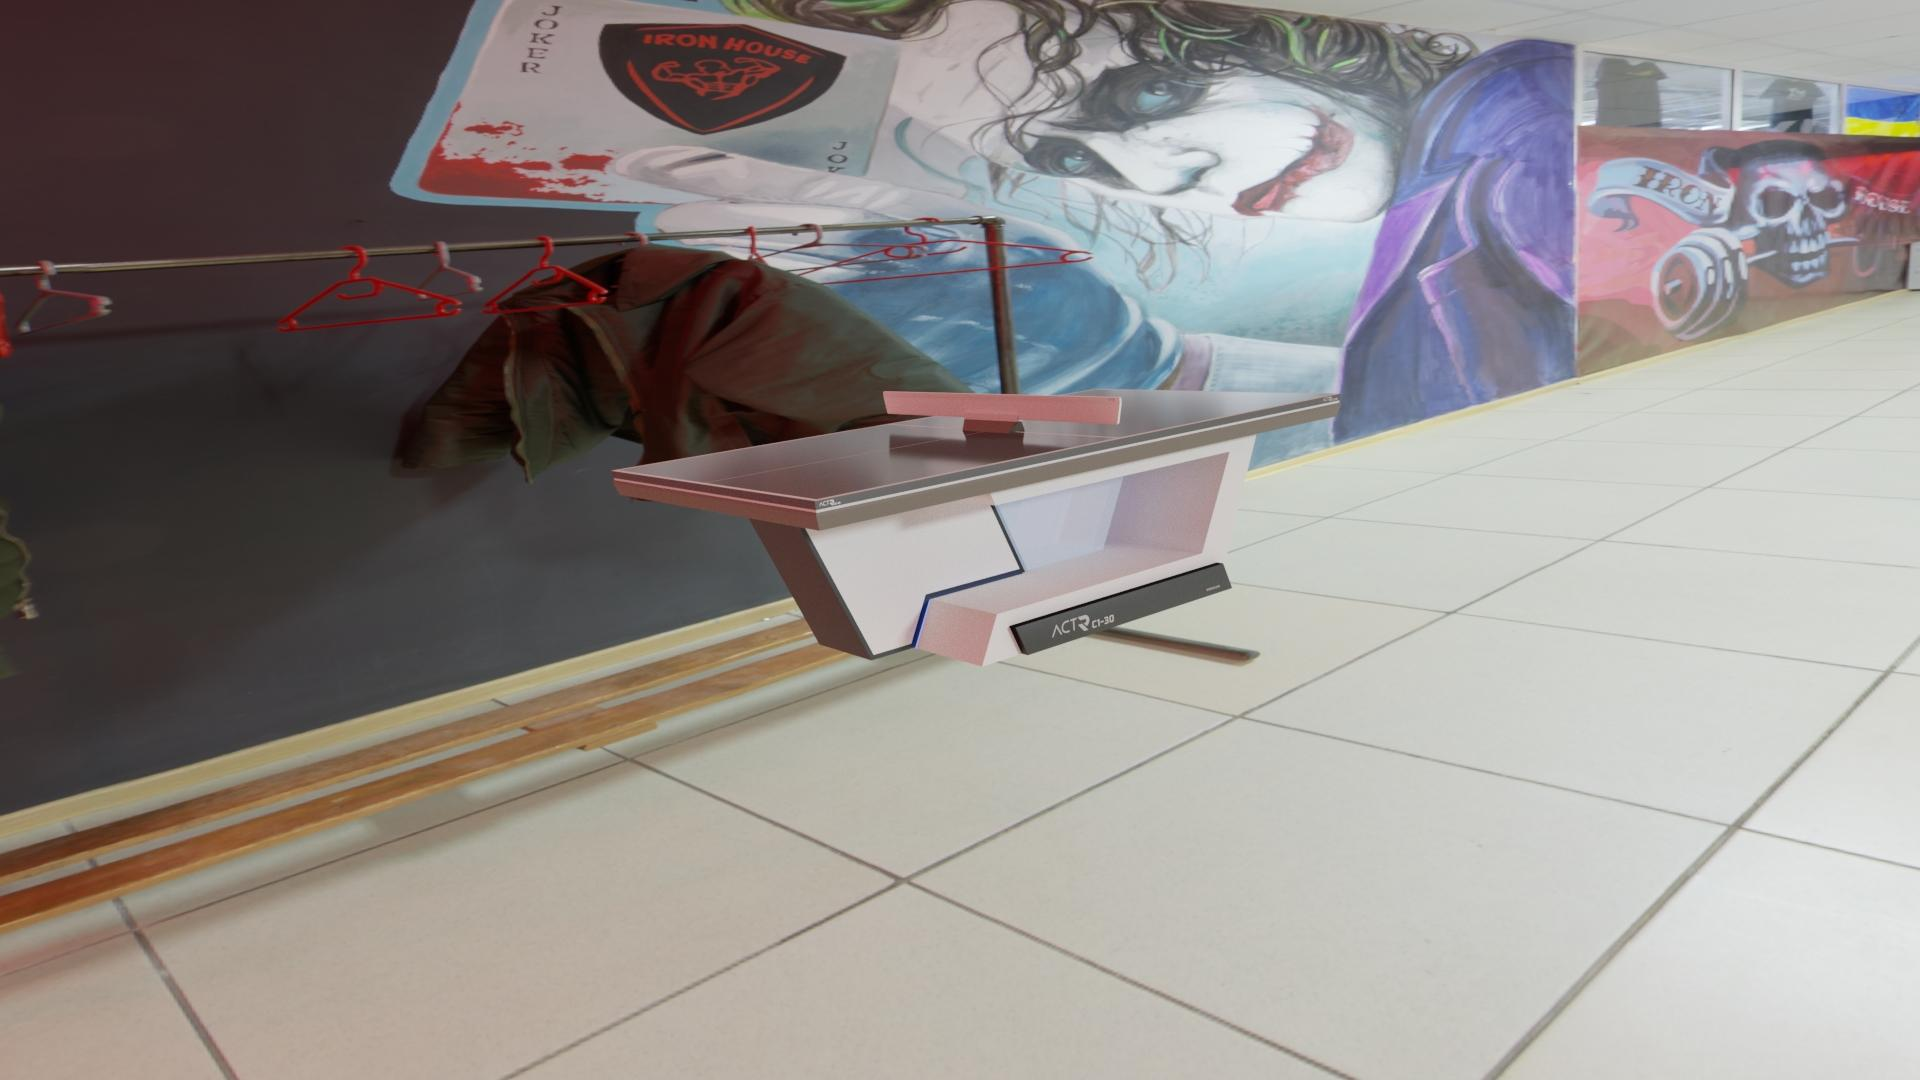table: (618, 389, 1335, 500)
